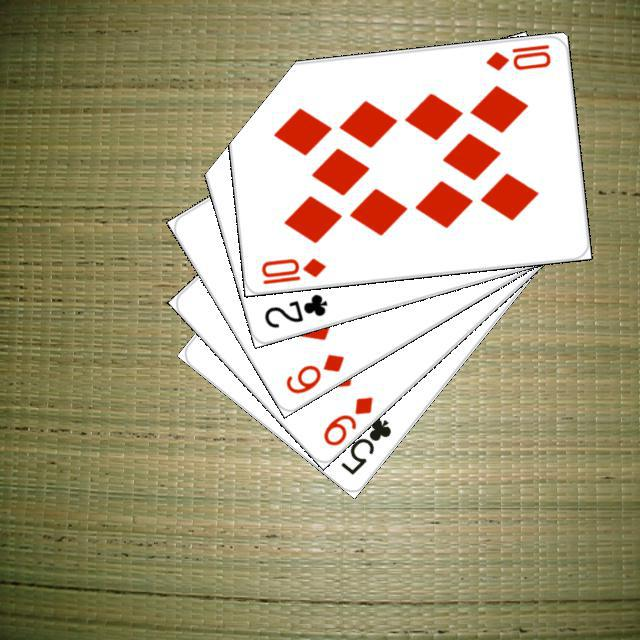10d: (481, 39, 553, 73), (256, 253, 328, 286)
2c: (259, 289, 329, 330)
5c: (335, 413, 393, 477)
6d: (280, 348, 346, 396)
9d: (317, 391, 375, 448)
